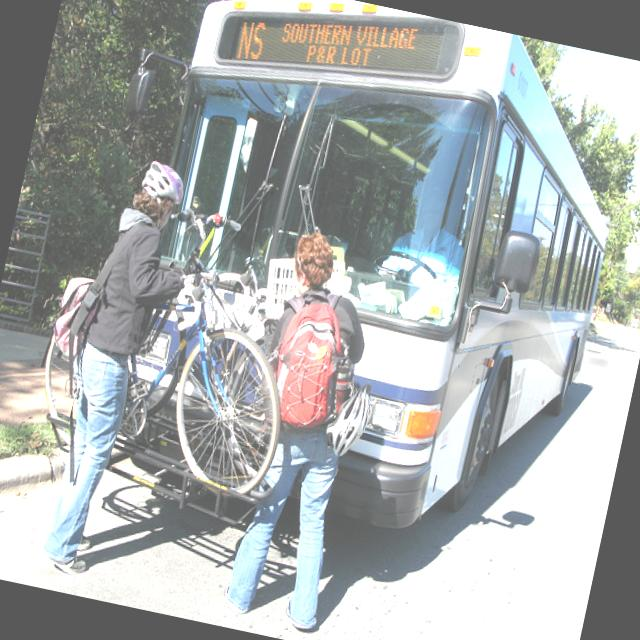Vehicle: (97, 0, 640, 570)
